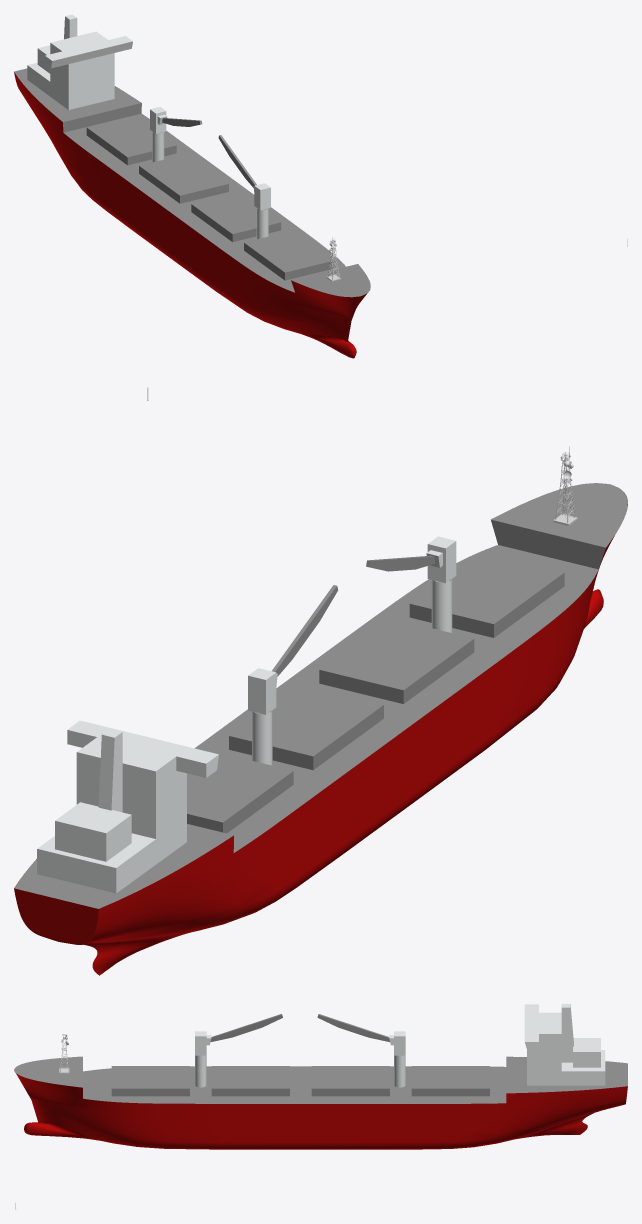
The model's file is Ship 3D Model.fbx.
3 views of the same model, one above another, from view 1: azimuth 30°, elevation 25°; view 2: azimuth 150°, elevation 25°; view 3: azimuth 270°, elevation 25° (orthographic). The views are drawn at different scales.
Visible parts, largest first — view 1: Deck, Hull, Superstructure, Crane Post.001, Crane Post; view 2: Deck, Hull, Superstructure, Crane Post, Crane Post.001, Crane Arm.001, Communication Tower, Crane Arm; view 3: Hull, Deck, Superstructure, Crane Post, Crane Post.001, Crane Arm, Crane Arm.001.
Boxes of the visible parts, <box> form: Deck: <box>14,68,370,297</box>; Hull: <box>14,72,370,358</box>; Superstructure: <box>27,14,132,109</box>; Crane Post.001: <box>253,183,270,239</box>; Crane Post: <box>150,106,167,162</box>; Deck: <box>14,483,627,908</box>; Hull: <box>14,487,627,975</box>; Superstructure: <box>37,720,218,893</box>; Crane Post: <box>248,668,277,765</box>; Crane Post.001: <box>426,536,456,632</box>; Crane Arm.001: <box>272,585,338,676</box>; Communication Tower: <box>553,446,577,525</box>; Crane Arm: <box>366,555,435,571</box>; Hull: <box>14,1071,627,1149</box>; Deck: <box>14,1056,627,1103</box>; Superstructure: <box>524,1004,605,1085</box>; Crane Post: <box>389,1031,405,1087</box>; Crane Post.001: <box>195,1031,211,1087</box>; Crane Arm: <box>210,1014,282,1041</box>; Crane Arm.001: <box>317,1014,389,1041</box>.
Size of the model in its own units: 8830 by 3703 by 15957.
